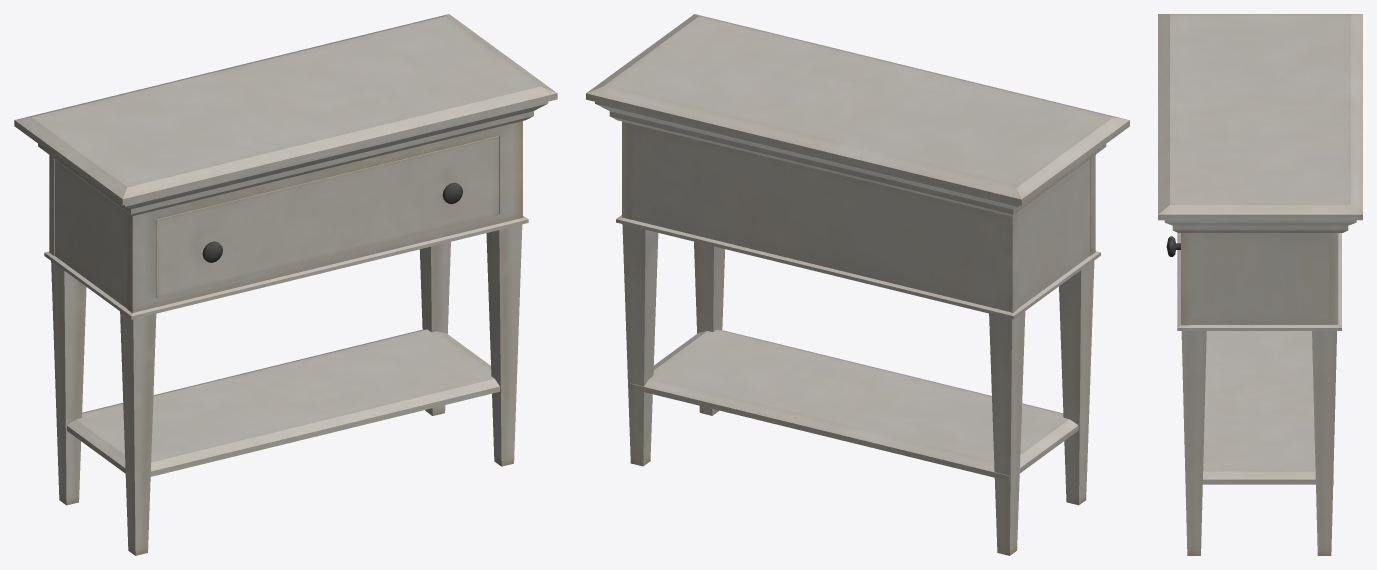
The model's file is SideTable_A.FBX.
The picture shows the model from 3 angles, left to right: view 1: azimuth 30°, elevation 25°; view 2: azimuth 150°, elevation 25°; view 3: azimuth 270°, elevation 25°; orthographic projection. The views are drawn at different scales.
Visible parts, largest first — view 1: SideTable_A, Drawer; view 2: SideTable_A; view 3: SideTable_A.
Boxes of the visible parts, x1,y1,x2,y2 form: SideTable_A: (14,14,557,555); Drawer: (156,136,499,298); SideTable_A: (586,14,1129,555); SideTable_A: (1158,14,1362,555).
Bounding box in the file's own units: 85.2 × 71.09 × 36.75.
